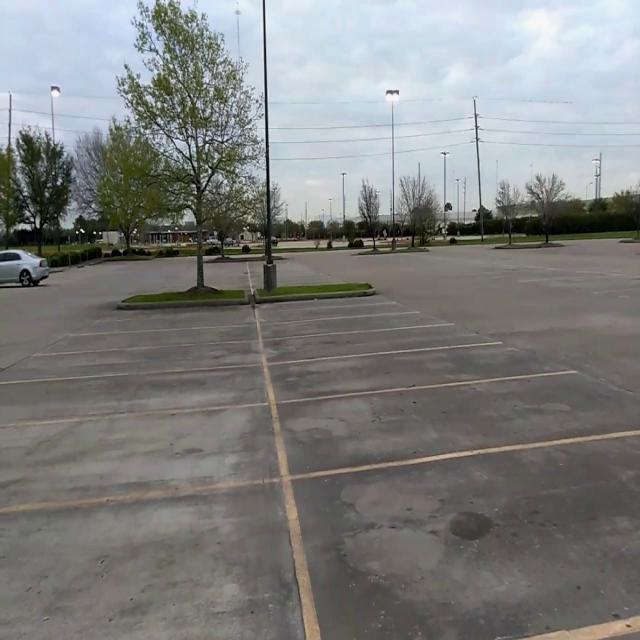space-empty: (287, 432, 640, 640), (0, 488, 313, 638), (275, 372, 640, 483), (0, 402, 282, 513), (265, 340, 583, 410), (0, 363, 270, 425), (0, 339, 265, 381), (262, 321, 504, 362), (33, 325, 259, 357), (257, 310, 450, 341), (73, 313, 257, 336), (256, 304, 418, 326)
